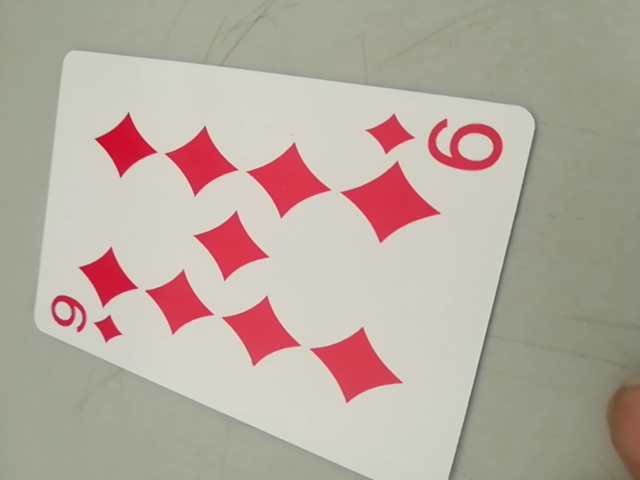fk 9: (365, 107, 511, 173), (37, 293, 133, 350)
